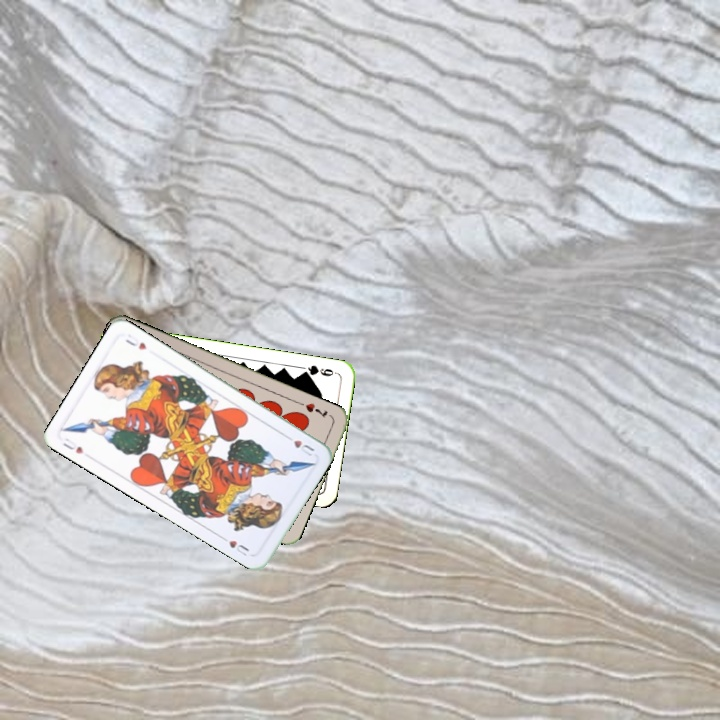G9: (298, 361, 340, 379)
H7: (301, 399, 330, 421)
HU: (281, 430, 317, 459), (58, 434, 86, 457)
